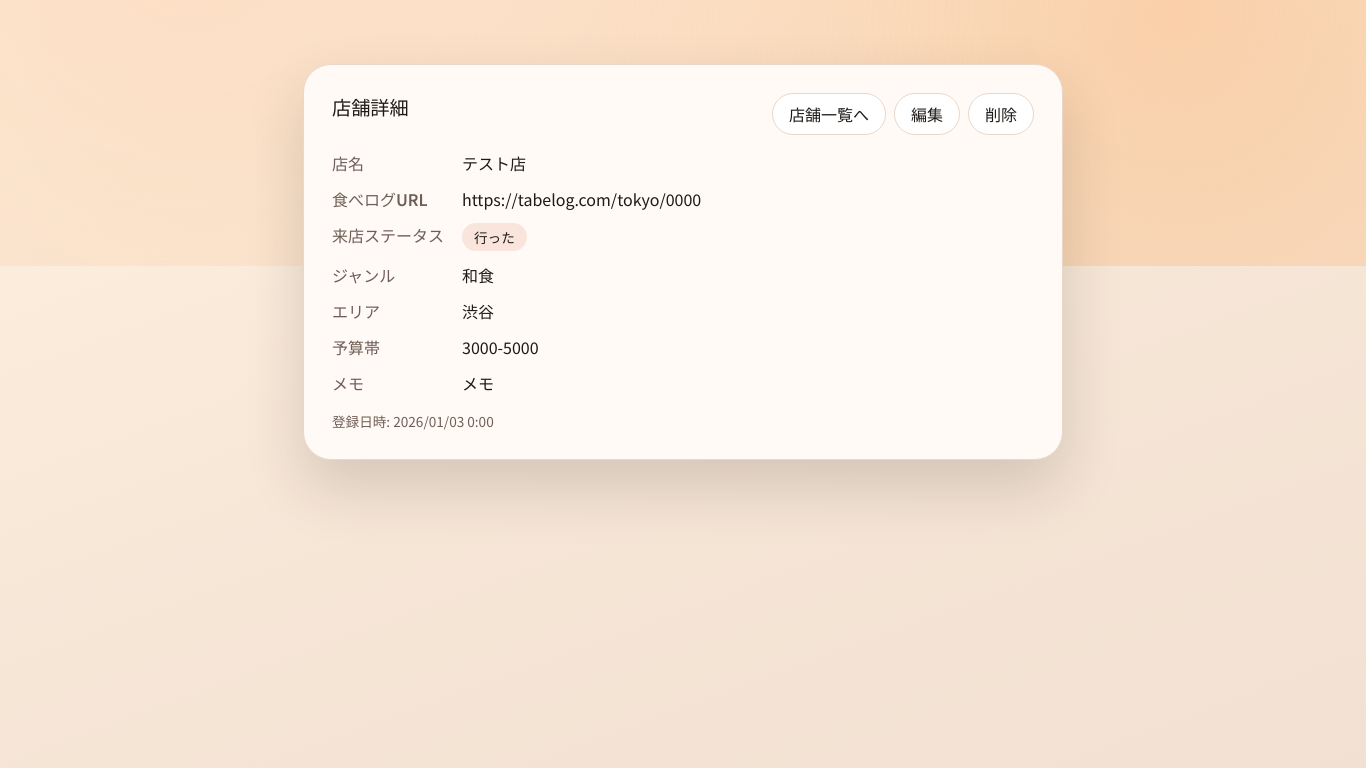
Test case: App › 削除確認ダイアログで再試行できる
Expected: the heading "店舗詳細" is shown, [332,93,409,121]
Click the button "削除" at (1001, 114), box [968,93,1034,135]
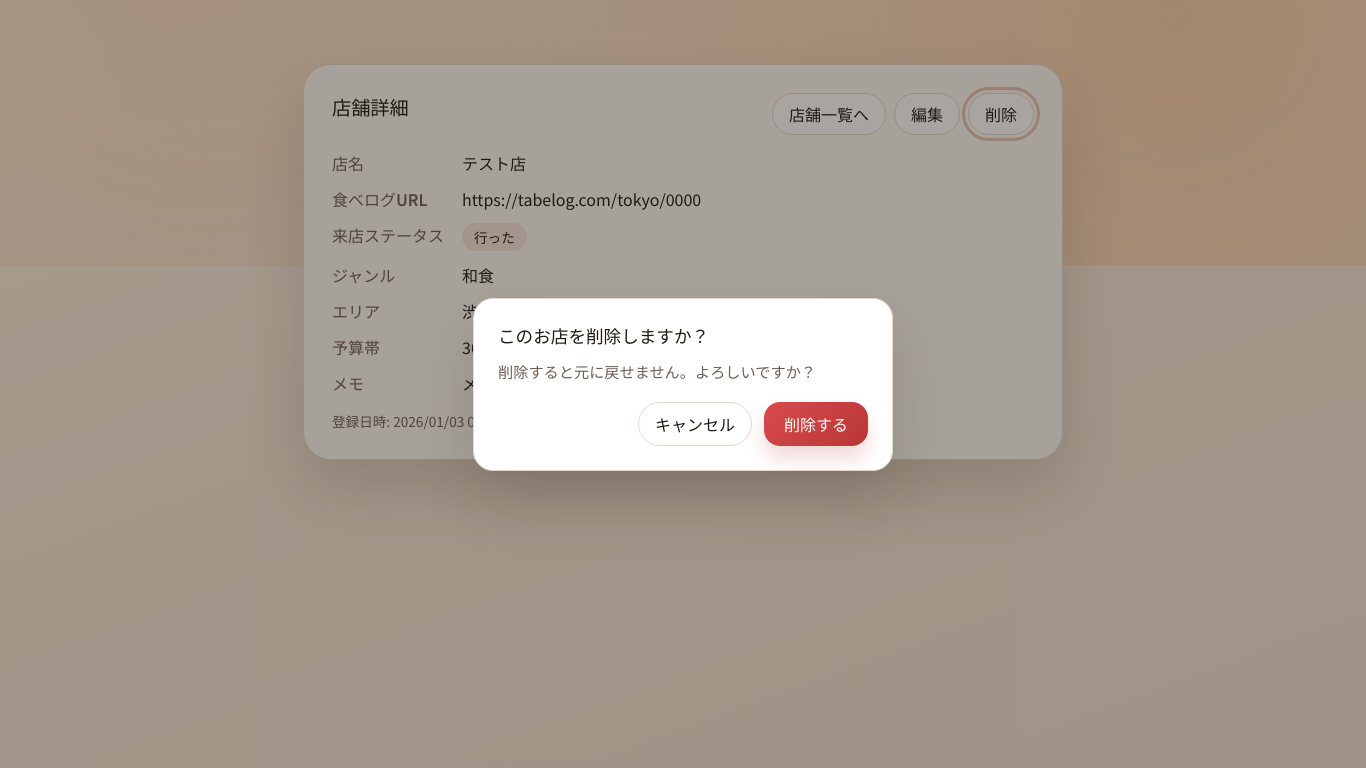
Now the dialog is shown, box [473,298,893,470]
Click the button "削除する" at (816, 424), box [764,402,868,446]
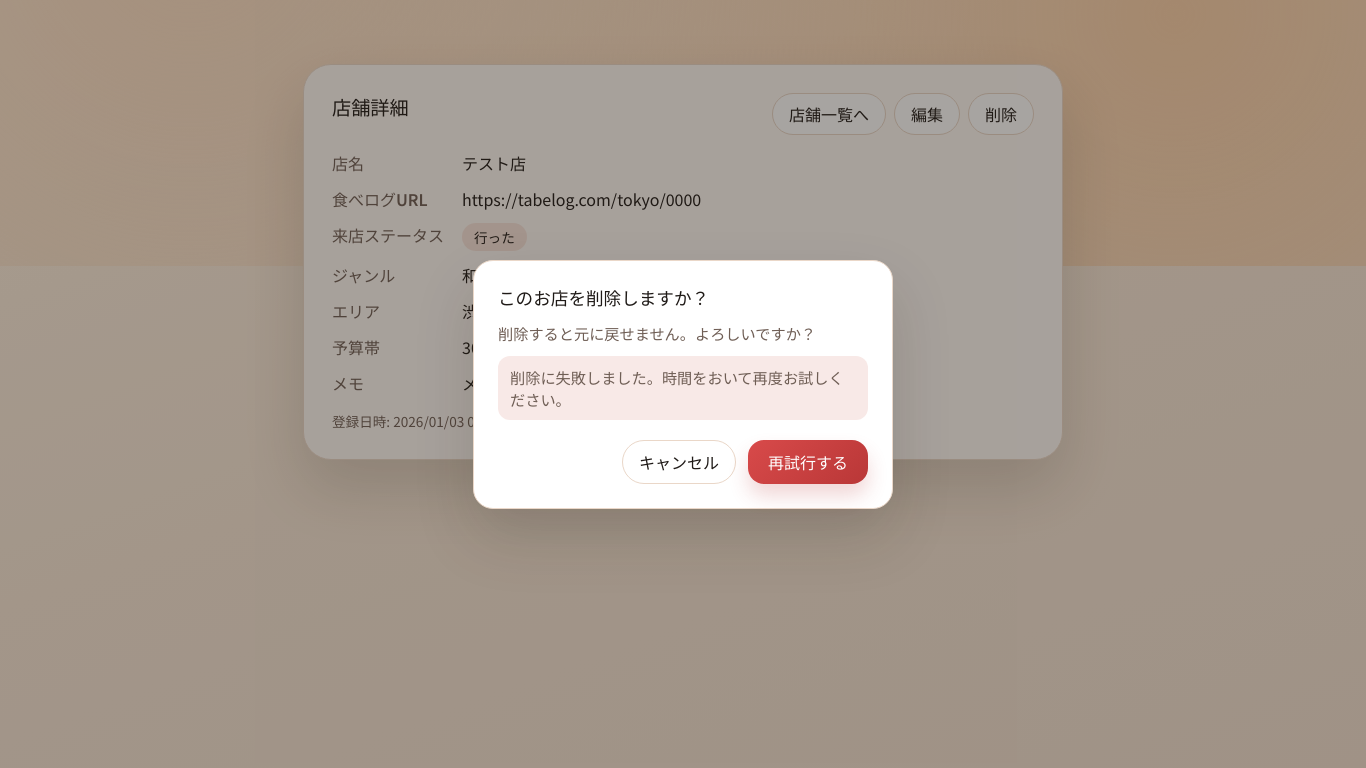
Now the text "削除に失敗しました。時間をおいて再度お試しください。" is shown, box [498,356,868,420]
Click the button "再試行する" at (808, 462), box [748,440,868,484]
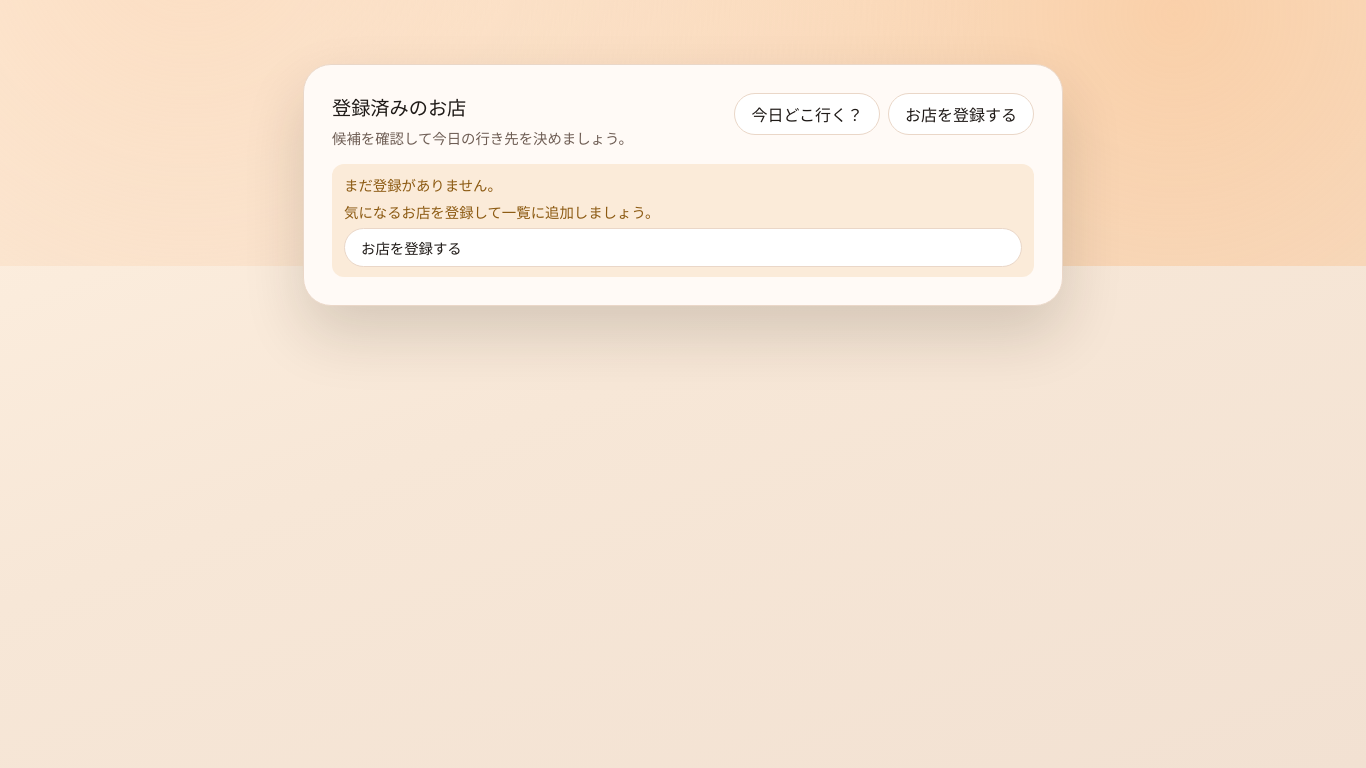
Now the heading "登録済みのお店" is shown, box [332,93,466,121]
